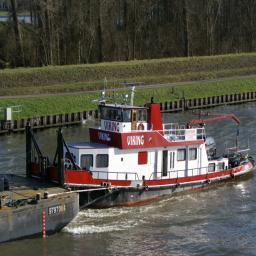tugboat: (23, 79, 256, 214)
